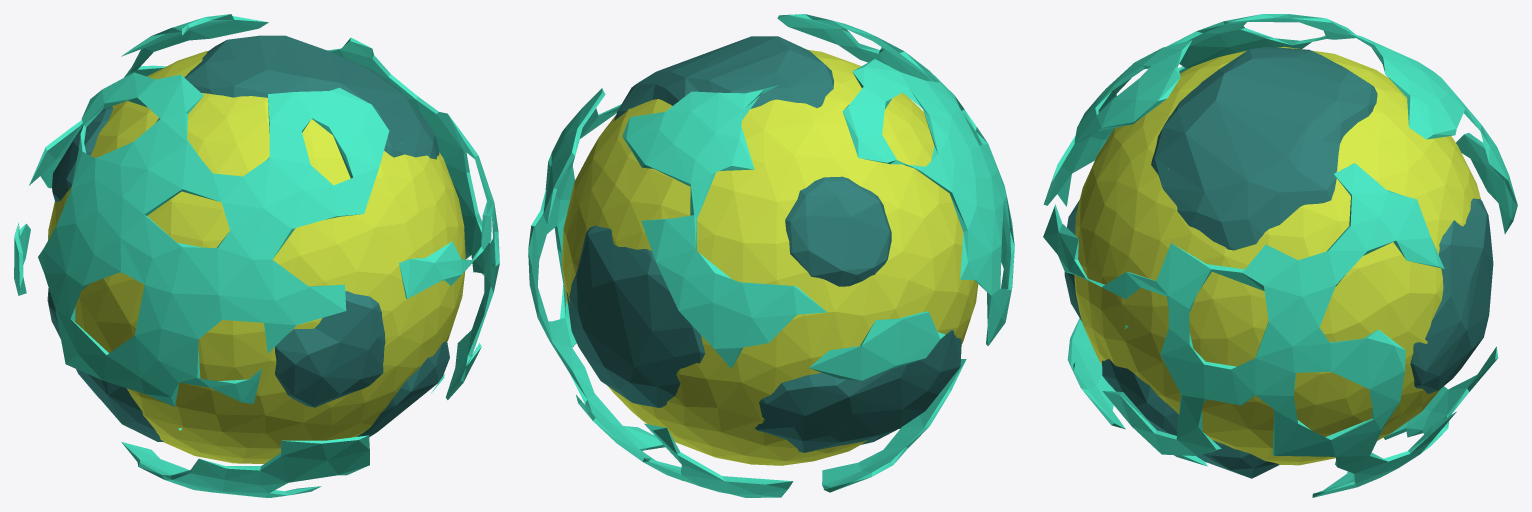
The model's file is SM_PlanetJ.fbx.
3 renders of one model, left to right at view 1: azimuth 30°, elevation 25°; view 2: azimuth 150°, elevation 25°; view 3: azimuth 270°, elevation 25°, orthographic.
Visible parts, largest first — view 1: PlanetJ; view 2: PlanetJ; view 3: PlanetJ.
Part boxes in pixels (left/top/right/bottom): PlanetJ: left=14, top=14, right=499, bottom=497; PlanetJ: left=528, top=14, right=1014, bottom=497; PlanetJ: left=1043, top=14, right=1517, bottom=497.
Bounding box in the file's own units: 2.32 × 2.21 × 2.27.
1 material, 1 textured.
